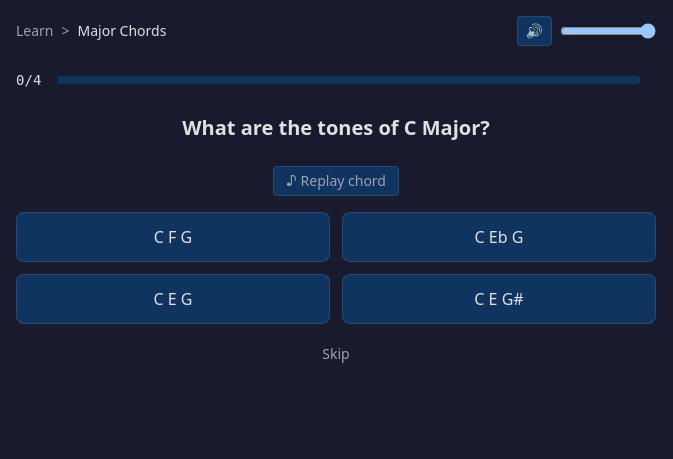
FlashcardSession › shows teaching feedback after wrong choice without punishment language
What coordinates should you click on to do the following:
click the button with test id "option-C Eb G"
I would click on:
 (499, 237)
Its box is [342,212,656,262].
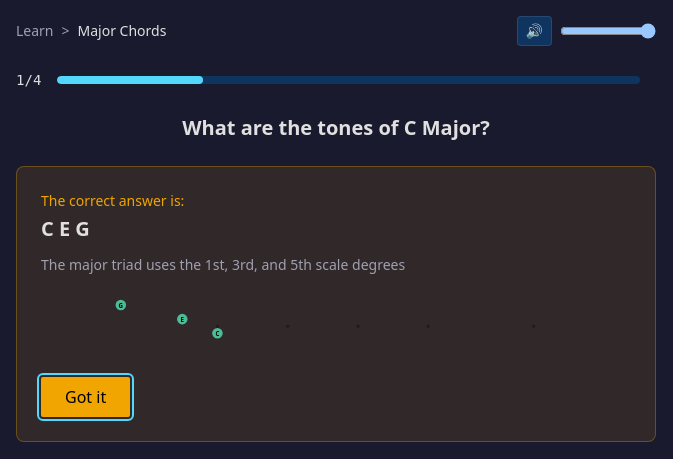
Expected: the message with test id "answer-feedback" is shown, [16,166,656,442]
Expected: the text "The correct answer is:" is shown, [41,191,184,210]
Expected: the button with test id "got-it-button" is shown, [41,377,130,417]
